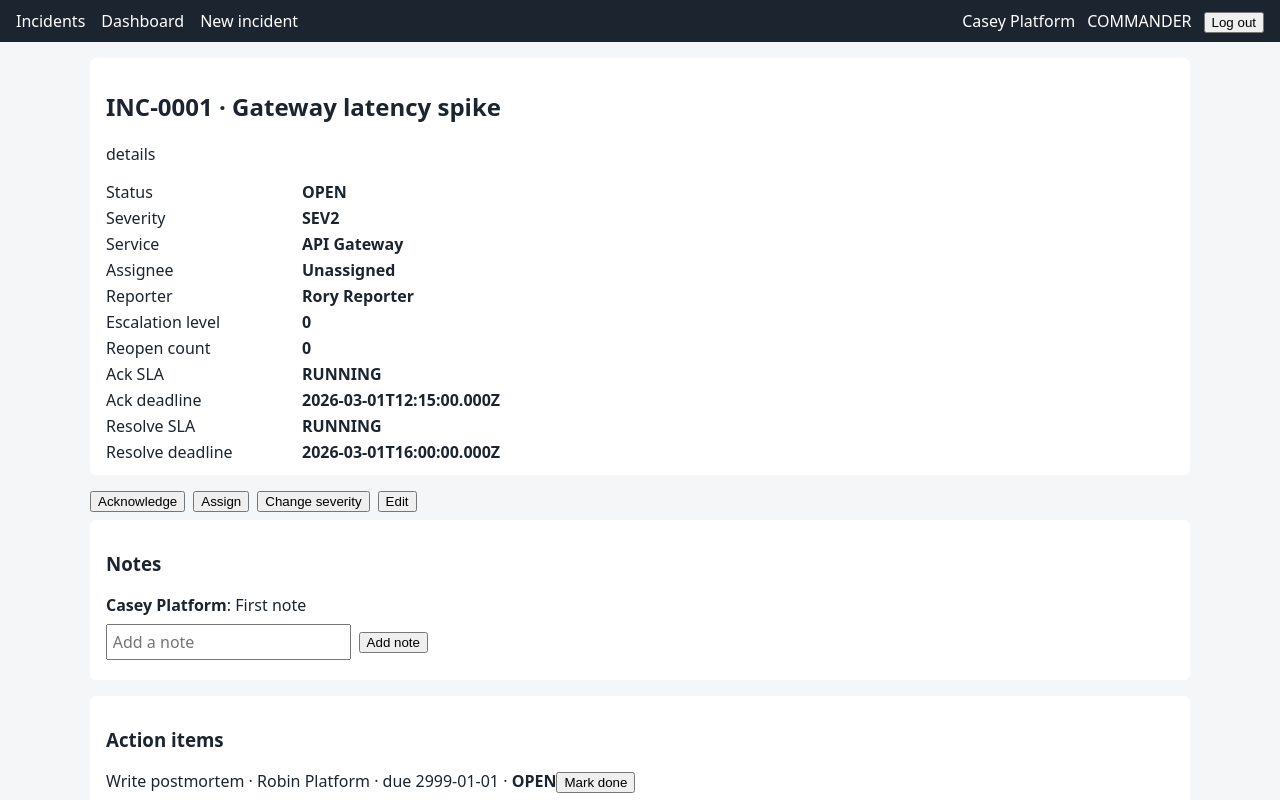
incident detail › assign dialog lists only responders and commanders of the incident team, with an empty placeholder
Click the button with test id "action-assign". click: (221, 502)
box: [193,491,249,512]
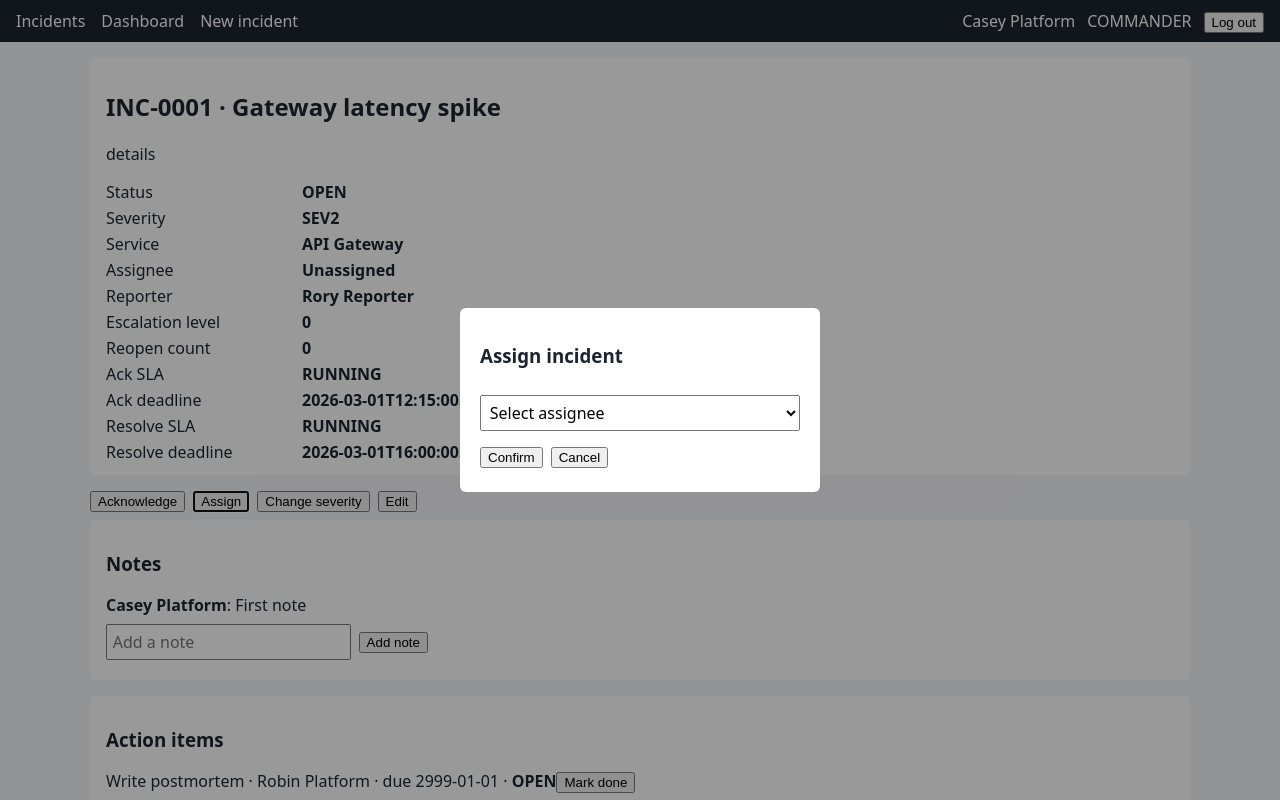
Select "Robin Platform" in the dropdown with test id "dialog-select". click: (640, 413)
box: [480,395,800,430]
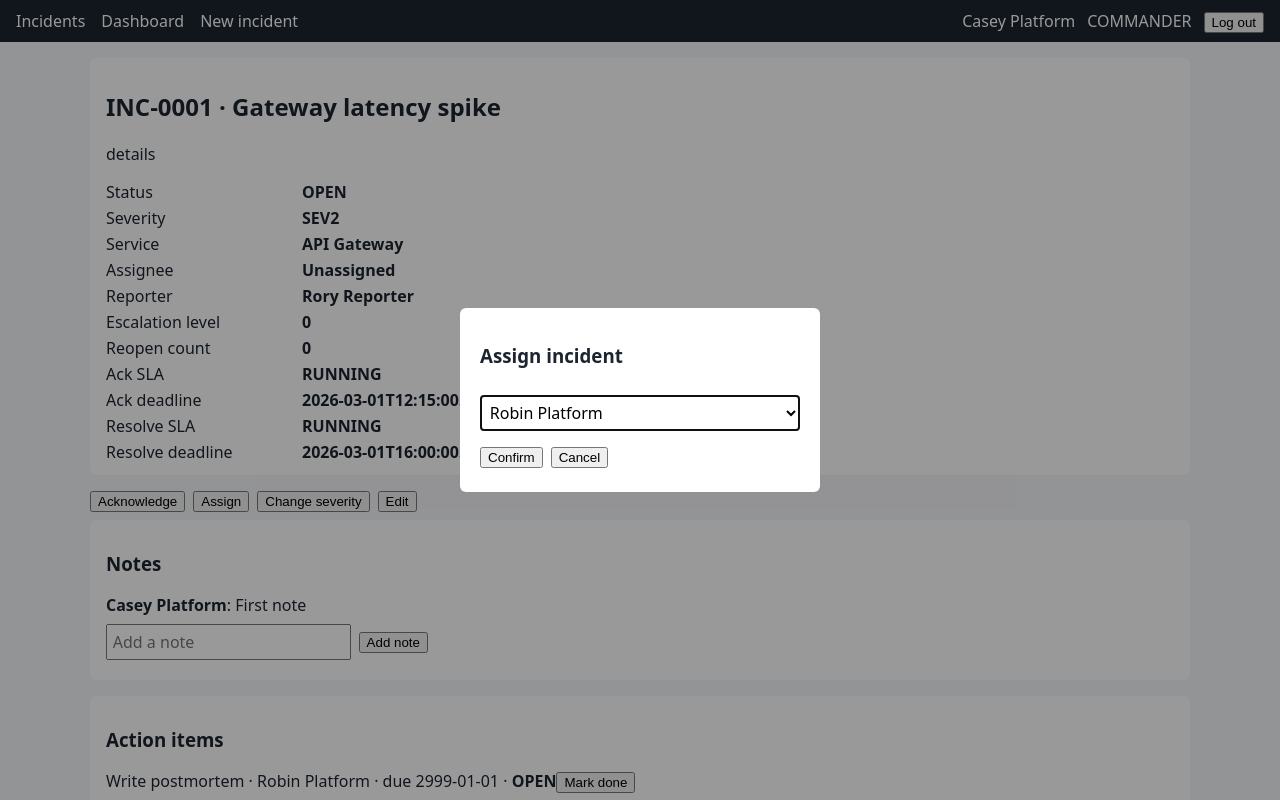
Click the button with test id "dialog-confirm". click: (511, 457)
box: [480,446,543,468]
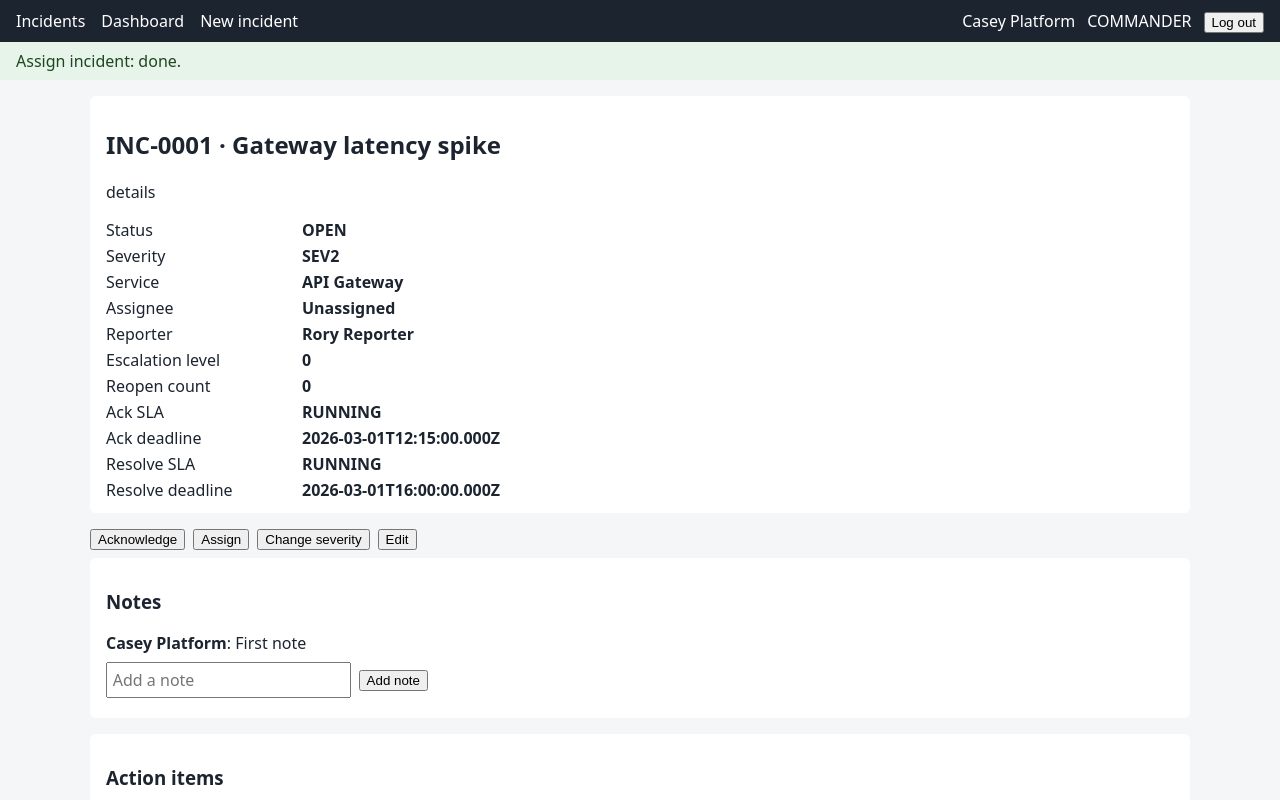
Check: the message "Assign incident: done." is shown, box [0,42,1279,80]
